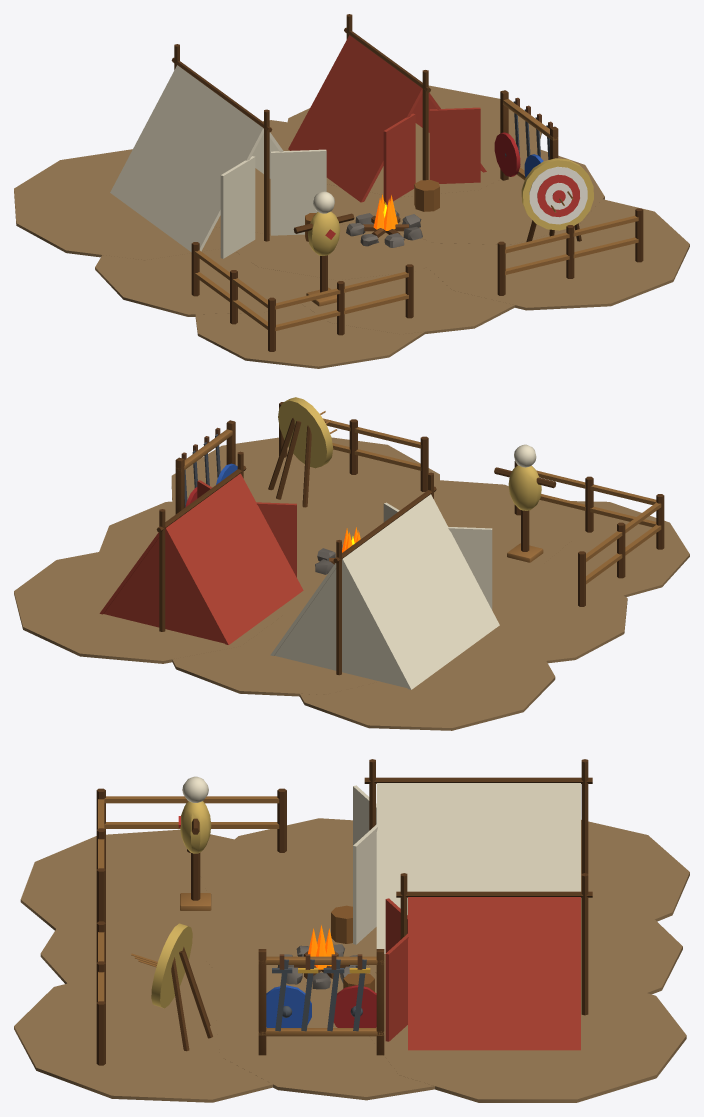
File: koszary_poz05.glb
3 views of the same model, one above another, from view 1: azimuth 30°, elevation 25°; view 2: azimuth 150°, elevation 25°; view 3: azimuth 270°, elevation 25° (orthographic). The views are drawn at different scales.
Visible parts, largest first — view 1: koszary_poz05; view 2: koszary_poz05; view 3: koszary_poz05.
Part boxes in pixels (left/top/right/bottom): koszary_poz05: left=14, top=14, right=689, bottom=368; koszary_poz05: left=14, top=397, right=689, bottom=730; koszary_poz05: left=14, top=759, right=689, bottom=1102.
Bounding box in the file's own units: 8.55 × 2.3 × 8.6.
